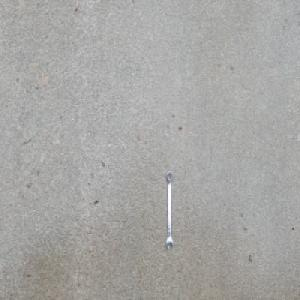Wrench: (165, 168, 174, 252)
